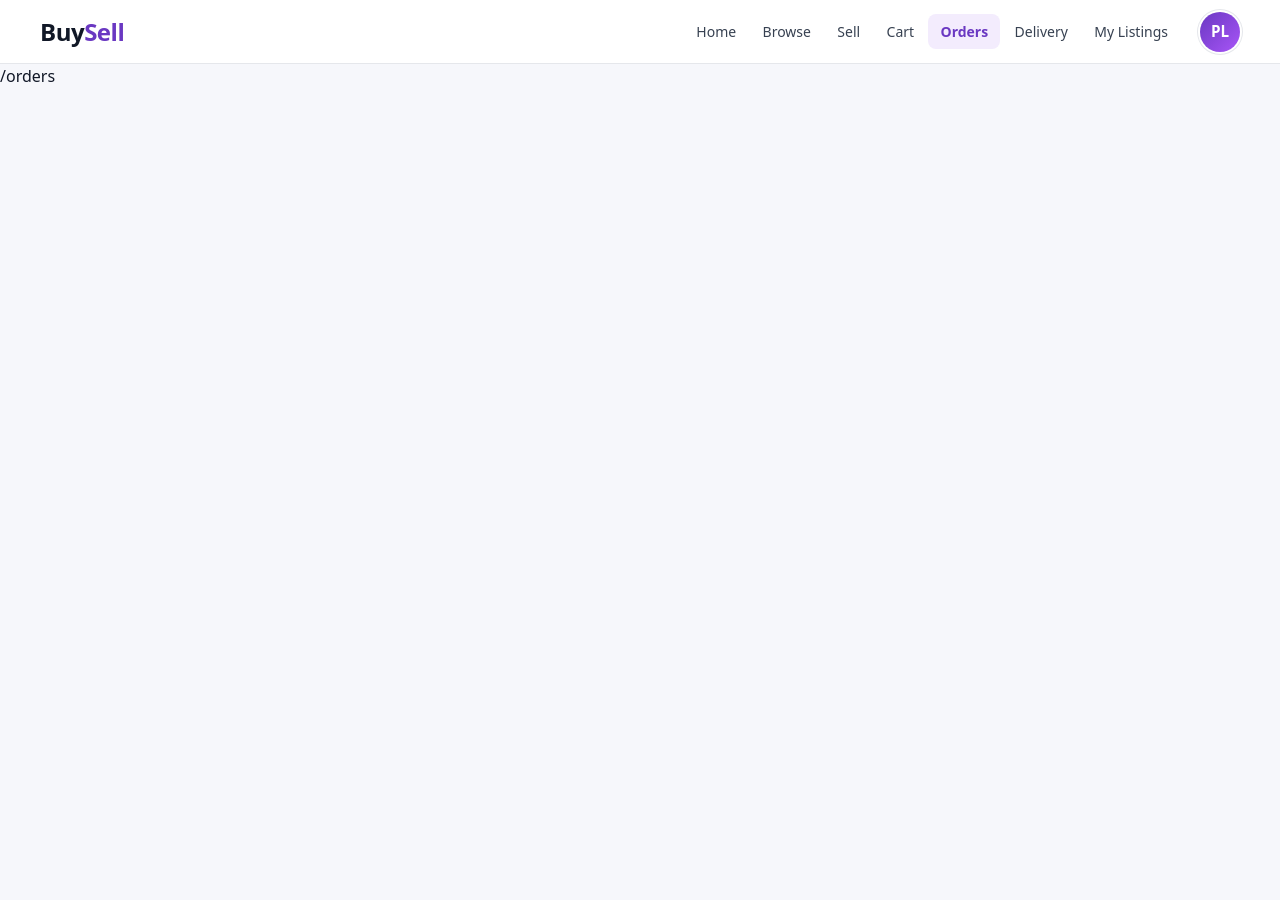
Test: Navbar logout › sends a password user to the login page and never leaves the app
Click the element with class "avatar-trigger". click: (1220, 32)
box: left=1200, top=12, right=1240, bottom=52
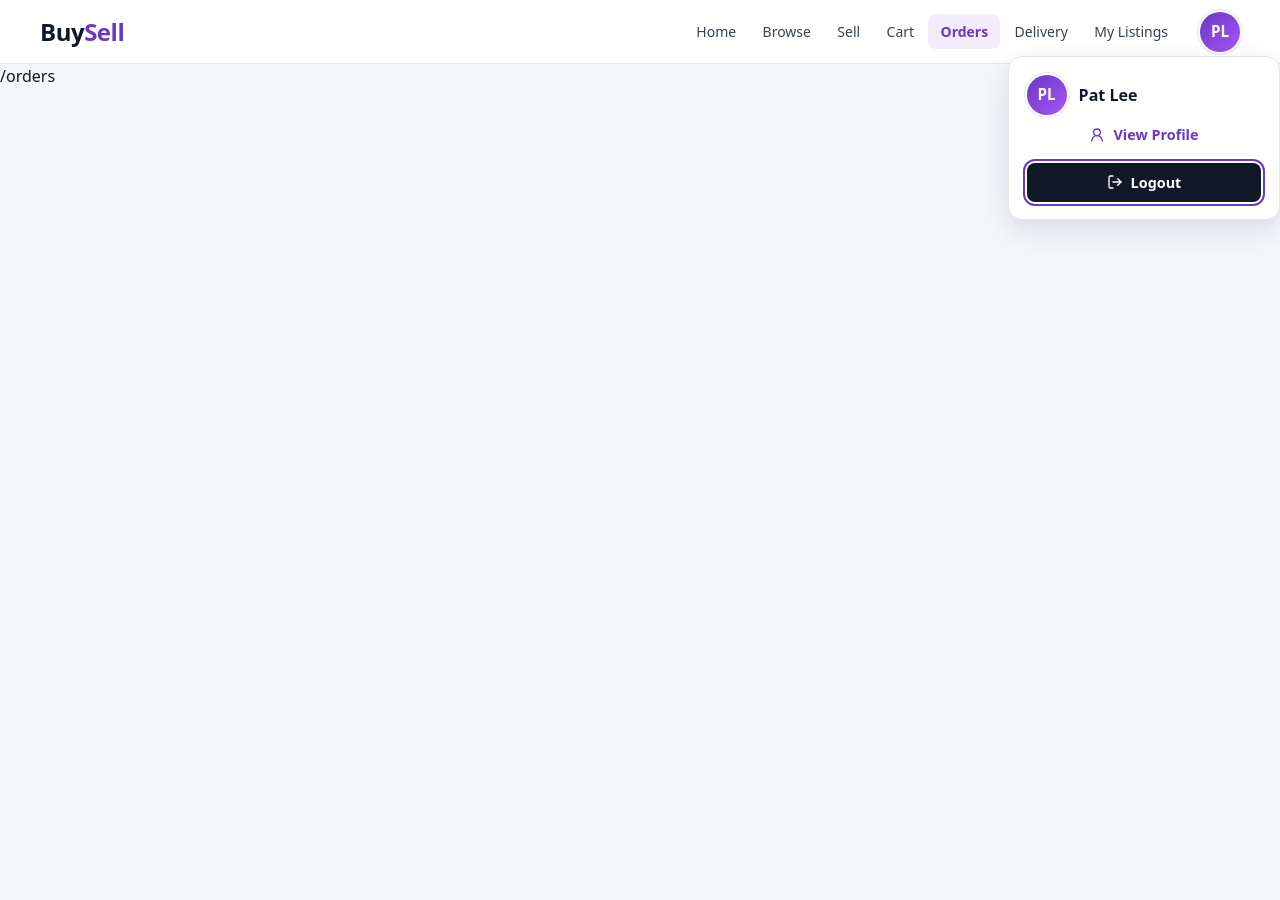
Click the button "Logout". click: (1144, 182)
box: left=1027, top=163, right=1261, bottom=202
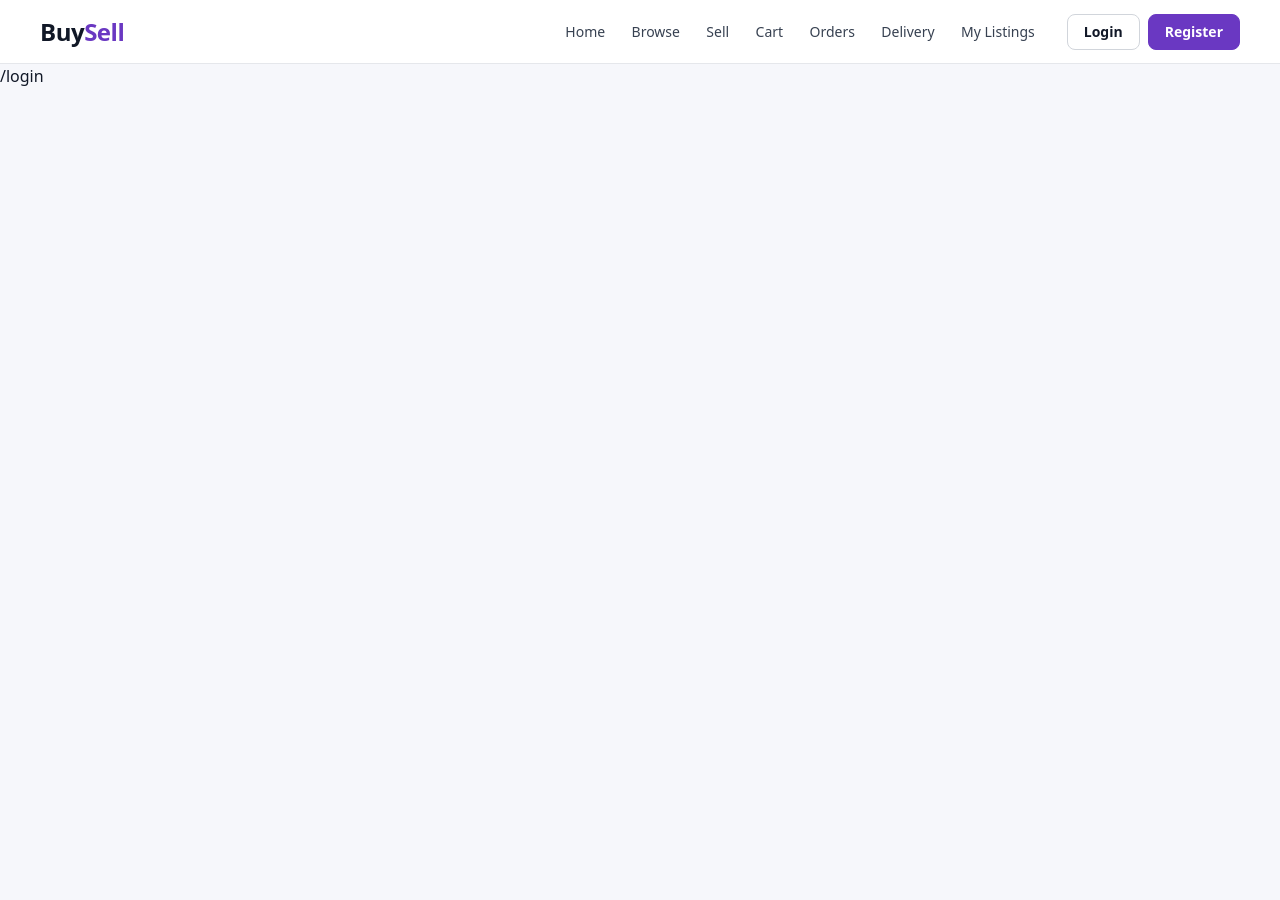
Expected: the text "/login" is shown, left=0, top=65, right=44, bottom=87
